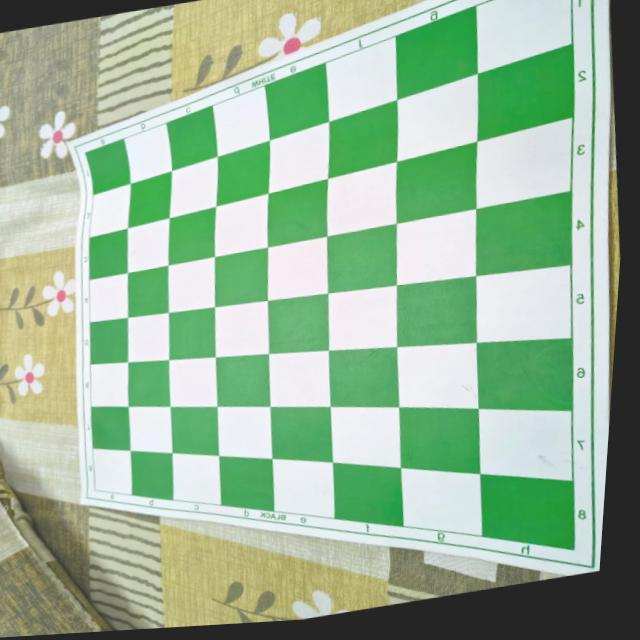square: (473, 459, 586, 570), (472, 395, 582, 498), (470, 327, 581, 429), (470, 42, 580, 138), (470, 261, 578, 353), (470, 188, 579, 278), (471, 115, 580, 205), (389, 1, 483, 96), (395, 396, 485, 489), (392, 334, 484, 424), (467, 0, 580, 72), (394, 71, 485, 159), (392, 271, 484, 358), (401, 459, 485, 548), (392, 140, 483, 221), (325, 451, 406, 538), (322, 339, 404, 424), (393, 210, 480, 289), (327, 396, 407, 479), (322, 222, 404, 300), (323, 281, 405, 359), (321, 100, 403, 177), (256, 58, 334, 137), (326, 34, 397, 120), (319, 160, 399, 236), (264, 396, 338, 473), (262, 120, 337, 192), (260, 175, 335, 246), (264, 290, 336, 362), (261, 235, 333, 302), (213, 448, 279, 519), (211, 349, 277, 418), (208, 192, 275, 258), (209, 137, 275, 203), (209, 299, 273, 363), (212, 85, 269, 155), (209, 247, 272, 309), (161, 104, 222, 168), (165, 399, 225, 463), (160, 205, 222, 266), (274, 457, 336, 518), (162, 304, 221, 364), (269, 350, 331, 406), (169, 155, 217, 217), (124, 122, 172, 183), (121, 265, 174, 320), (217, 405, 273, 457), (168, 256, 215, 312), (172, 451, 222, 503), (85, 137, 130, 193), (128, 170, 171, 227), (169, 356, 218, 406), (127, 217, 169, 272), (90, 182, 130, 236), (127, 311, 170, 361), (129, 450, 173, 498), (89, 227, 128, 279), (129, 405, 172, 452), (89, 271, 129, 321), (128, 359, 170, 406), (92, 447, 132, 494), (90, 316, 128, 363), (90, 361, 129, 406), (91, 405, 130, 449)
